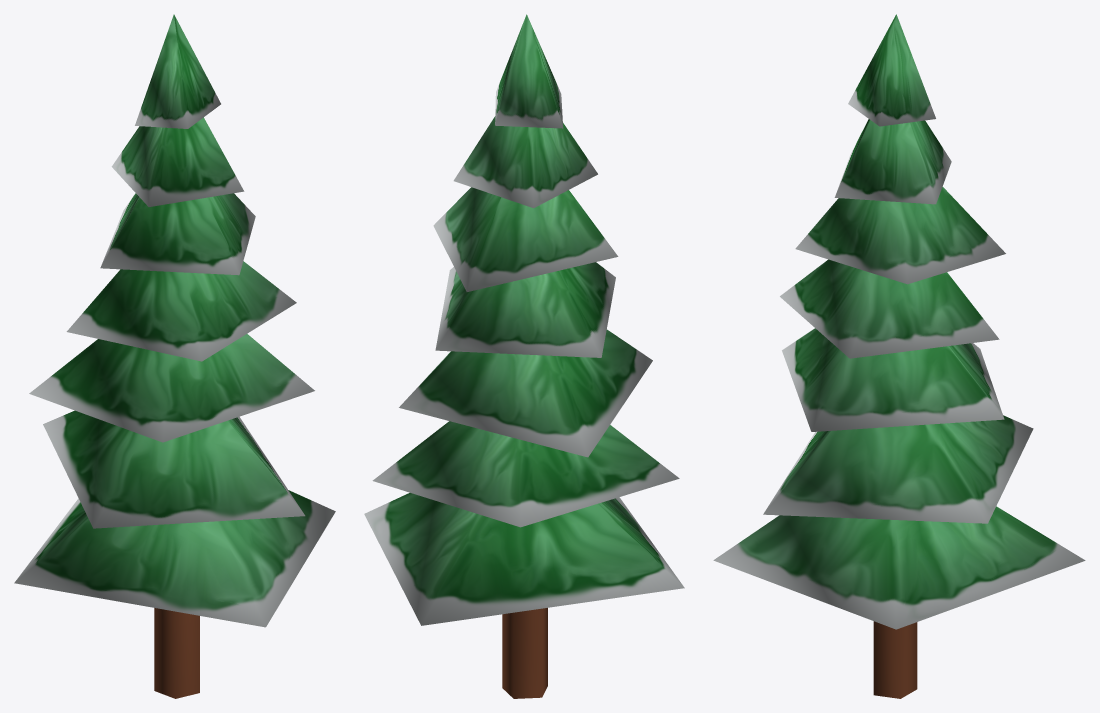
The model's file is tree.fbx.
The picture shows the model from 3 angles, left to right: view 1: azimuth 30°, elevation 25°; view 2: azimuth 150°, elevation 25°; view 3: azimuth 270°, elevation 25°; orthographic projection.
Parts seen in each view (by area): view 1: tree.007; view 2: tree.007; view 3: tree.007.
Part boxes in pixels (x1,y1,x2,y2): tree.007: (14, 14, 335, 698); tree.007: (364, 14, 684, 698); tree.007: (713, 14, 1085, 698).
Bounding box in the file's own units: 1537 × 3089 × 1548.
